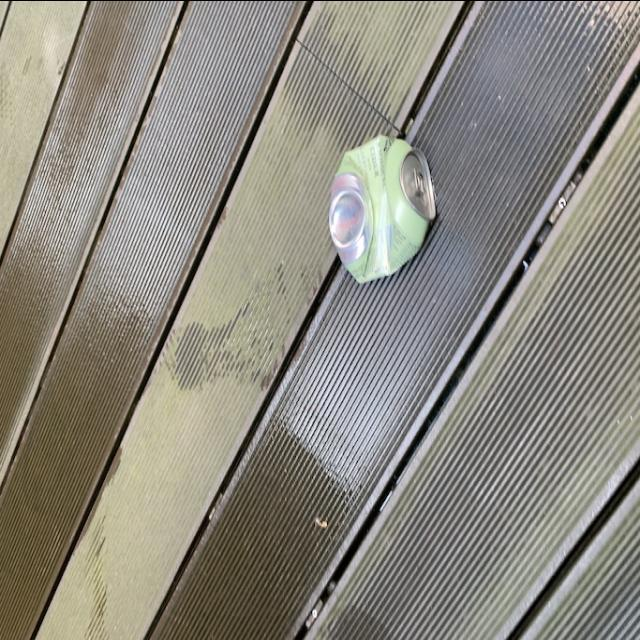Aluminum Can: (328, 124, 438, 282)
